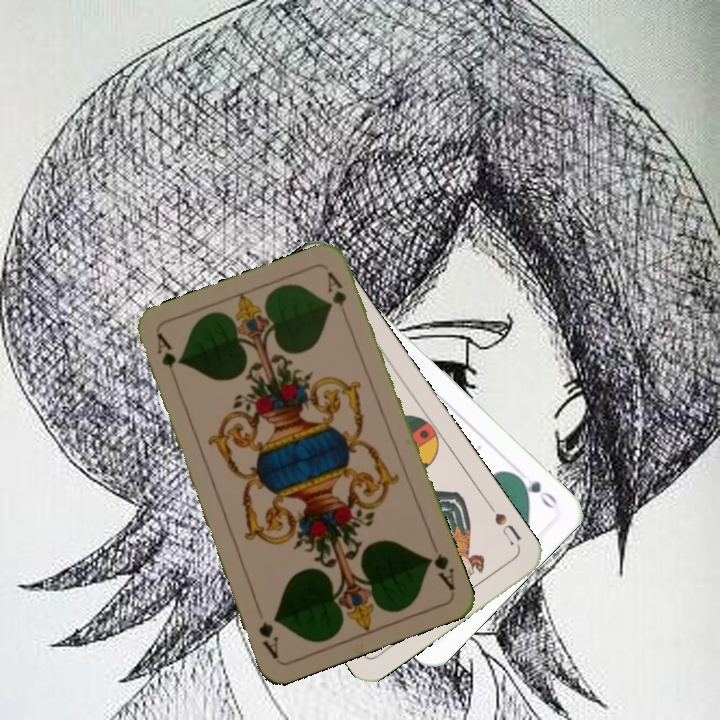GA: (423, 537, 458, 594), (153, 329, 181, 387)
GO: (510, 470, 561, 512)
SU: (484, 500, 525, 548)
